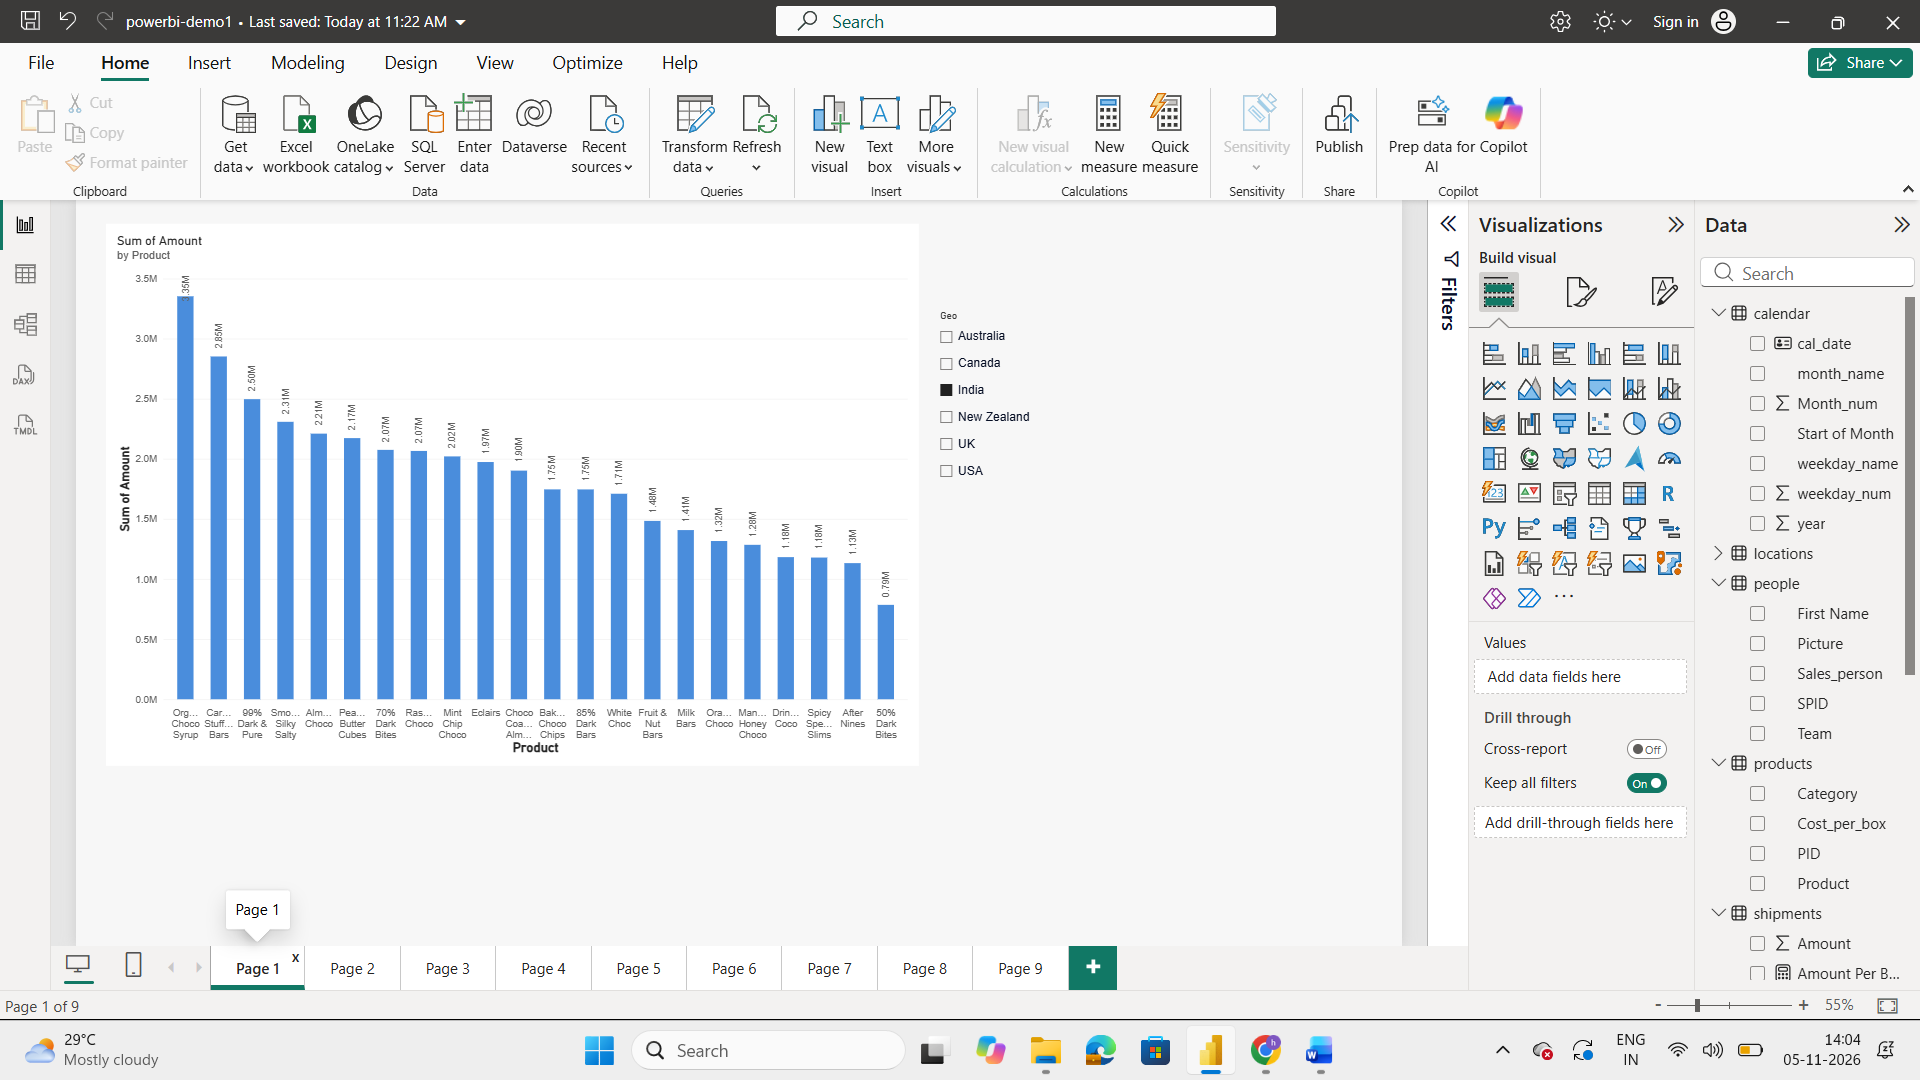

This screenshot's page, from the dashboard's own definition file:
{"tool":"powerbi","page":{"name":"Page 1","canvas":[1920,1080],"ordinal":0},"visuals":[{"type":"columnChart","fields":{"Category":["products.Product"],"Y":["Sum(shipments.Amount)"]},"box":[43.3,35,1176.7,785],"z":0},{"type":"slicer","fields":{"Values":["locations.Geo"]},"box":[1243.2,159.3,622.5,434.3],"z":1000}]}

Visuals, with their boxes on the page's 1920x1080 design canvas (x1, y1, x2, y2). These are canvas units, not pixel positions in the 1920x1080 screenshot, which may show the page scaled, cropped or inside an application window:
columnChart - products.Product x Sum(shipments.Amount): [43, 35, 1220, 820]
slicer - locations.Geo: [1243, 159, 1866, 594]
